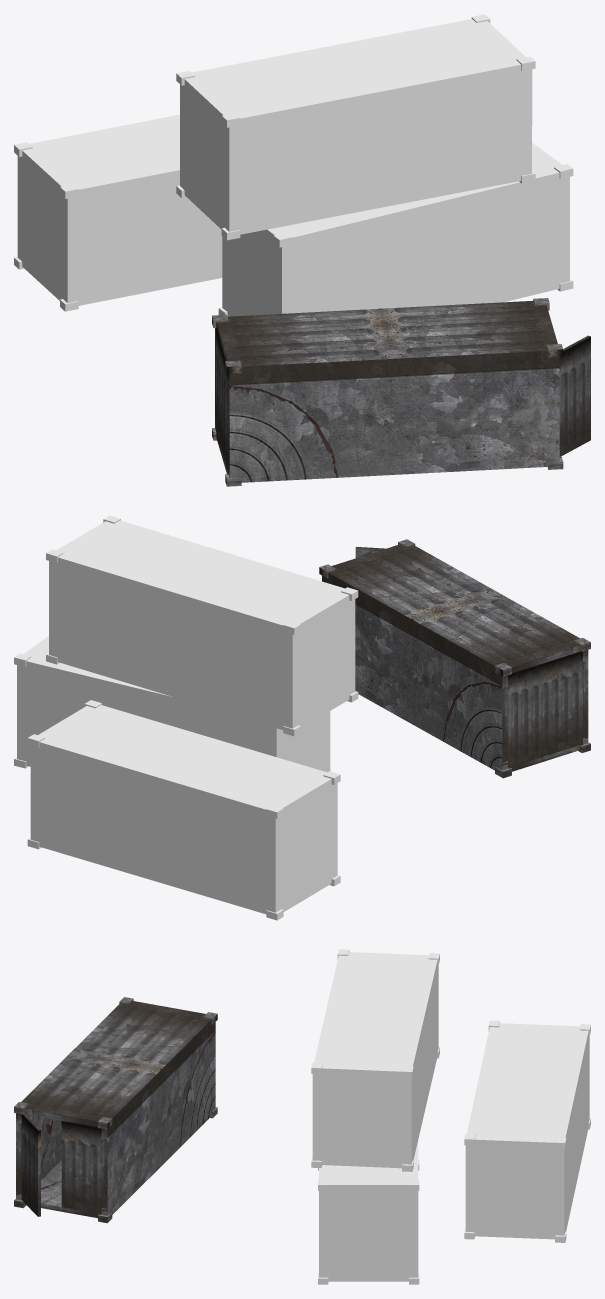
The model's file is Container4_Closed0.fbx.
3 renders of one model, top to bottom at view 1: azimuth 30°, elevation 25°; view 2: azimuth 150°, elevation 25°; view 3: azimuth 270°, elevation 25°, orthographic. The views are drawn at different scales.
Parts seen in each view (by area): view 1: Container4_Closed0; view 2: Container4_Closed0; view 3: Container4_Closed0.
Boxes of the visible parts, x1,y1,x2,y2 form: Container4_Closed0: [14, 14, 590, 486]; Container4_Closed0: [14, 515, 590, 920]; Container4_Closed0: [14, 949, 590, 1284].
Bounding box in the file's own units: 1076 × 1397 × 534.
